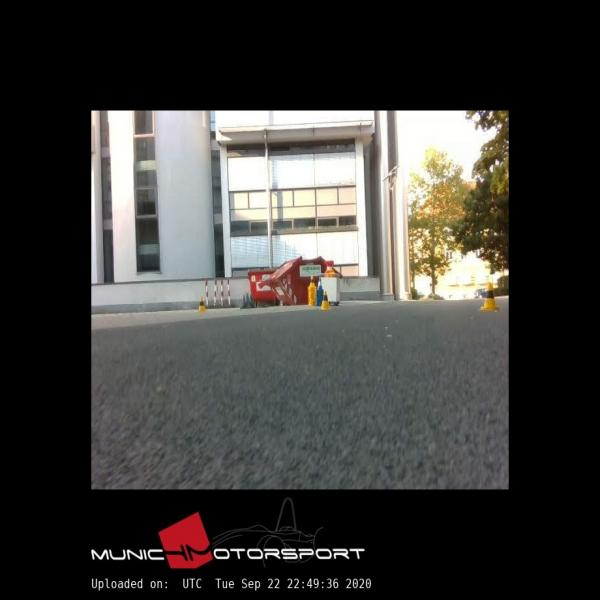yellow_cone: (480, 284, 499, 310), (320, 290, 331, 310), (308, 276, 317, 288), (198, 297, 205, 312)
